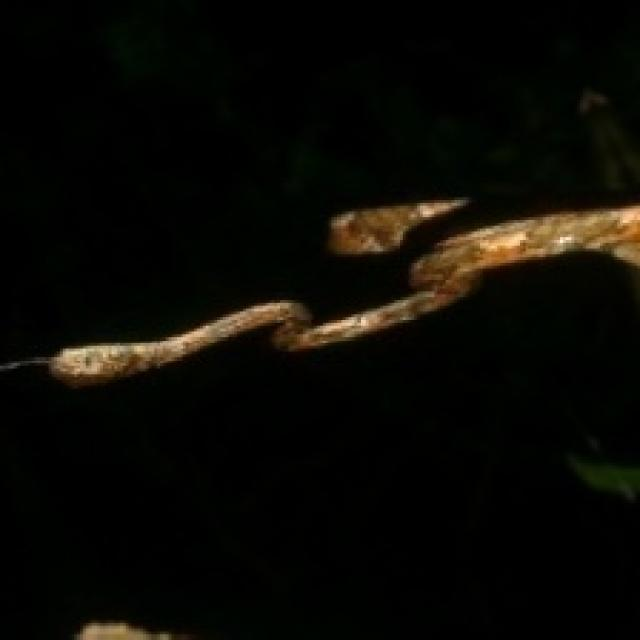philippine blunt-headed catsnake: (0, 206, 637, 383)
